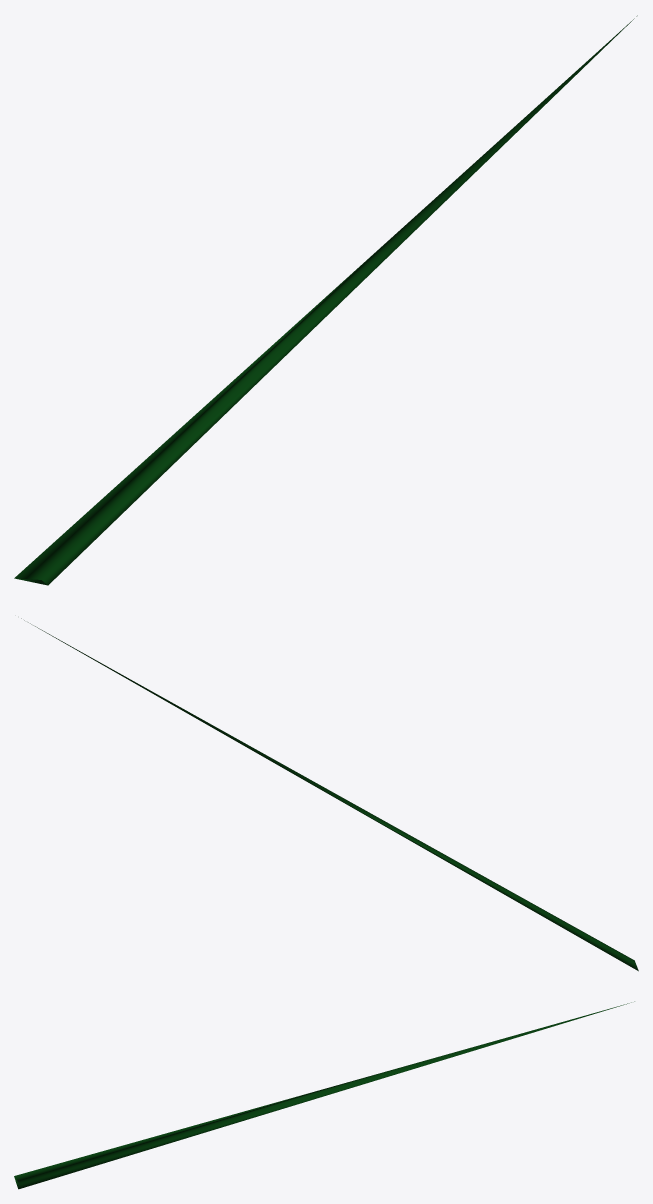
The model's file is marigoldPlantSapling_low.glb.
3 views of the same model, one above another, from view 1: azimuth 30°, elevation 25°; view 2: azimuth 150°, elevation 25°; view 3: azimuth 330°, elevation 25° (orthographic). The views are drawn at different scales.
Parts seen in each view (by area): view 1: Icosphere; view 2: Icosphere; view 3: Icosphere.
Part boxes in pixels (x1,y1,x2,y2): Icosphere: (14, 15, 637, 585); Icosphere: (21, 618, 638, 971); Icosphere: (14, 1001, 634, 1189).
Bounding box in the file's own units: 0.4585 × 0.2087 × 0.1057.
